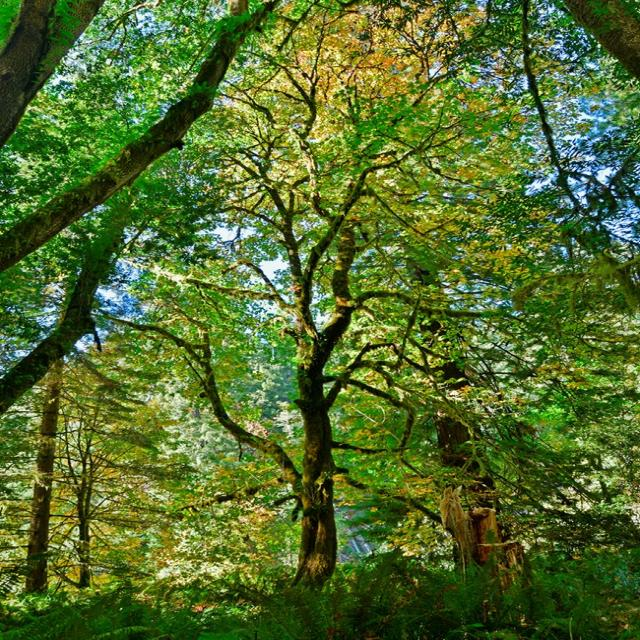Acer macrophyllum: (132, 2, 561, 583)
